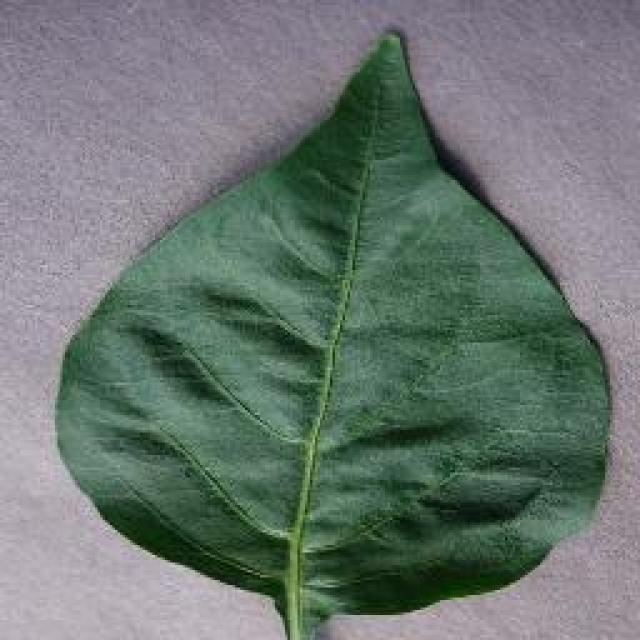Chilli_Healthy: (50, 25, 612, 637)
